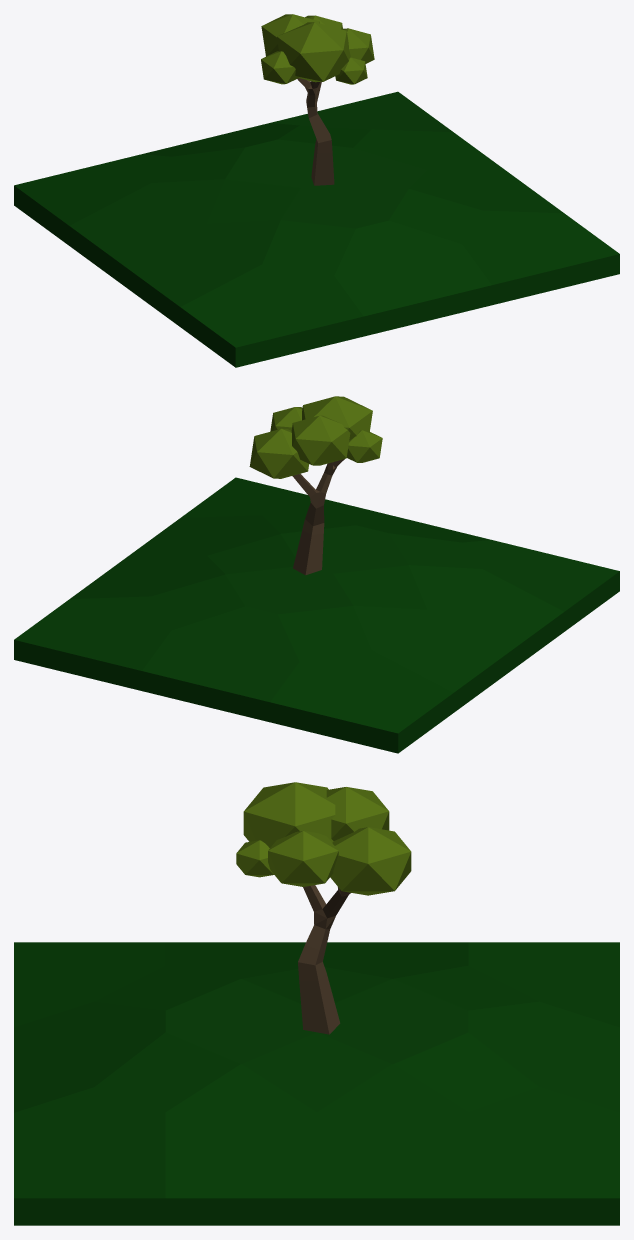
File: LP_TREE.fbx
3 renders of one model, top to bottom at view 1: azimuth 30°, elevation 25°; view 2: azimuth 150°, elevation 25°; view 3: azimuth 270°, elevation 25°, orthographic. The views are drawn at different scales.
Visible parts, largest first — view 1: TreeFinal; view 2: TreeFinal; view 3: TreeFinal.
Boxes of the visible parts, bbox=[...] form: TreeFinal: bbox=[14, 14, 619, 367]; TreeFinal: bbox=[14, 396, 619, 753]; TreeFinal: bbox=[14, 782, 619, 1225].
Size of the model in its own units: 1000 by 562 by 1000.
